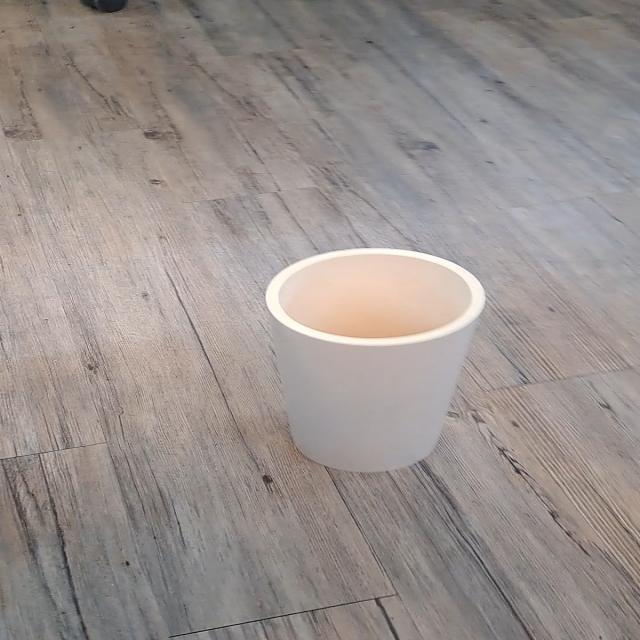CORAL: (258, 234, 500, 490)
